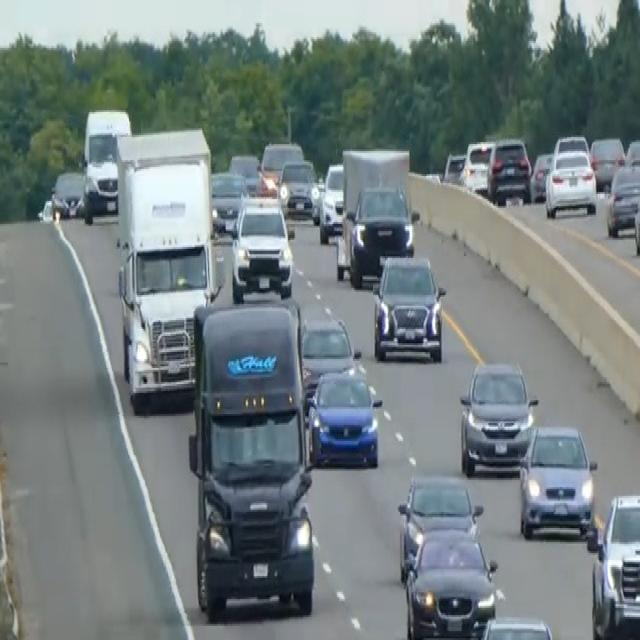car: (403, 526, 501, 638), (396, 471, 483, 580), (517, 421, 597, 539), (458, 358, 537, 477), (371, 250, 446, 362), (305, 363, 383, 469), (586, 489, 639, 638), (345, 182, 415, 286), (231, 194, 294, 298), (298, 310, 360, 406), (544, 146, 597, 218), (486, 135, 531, 205), (278, 157, 320, 220), (605, 160, 639, 236), (209, 167, 247, 233), (259, 139, 303, 190), (318, 160, 345, 242), (472, 612, 557, 638), (589, 134, 625, 190), (461, 137, 494, 194), (51, 169, 84, 219), (227, 149, 261, 194), (529, 149, 553, 201), (441, 149, 466, 185), (624, 137, 639, 172), (633, 181, 639, 258)
lorry: (187, 297, 316, 619), (113, 125, 234, 412)
